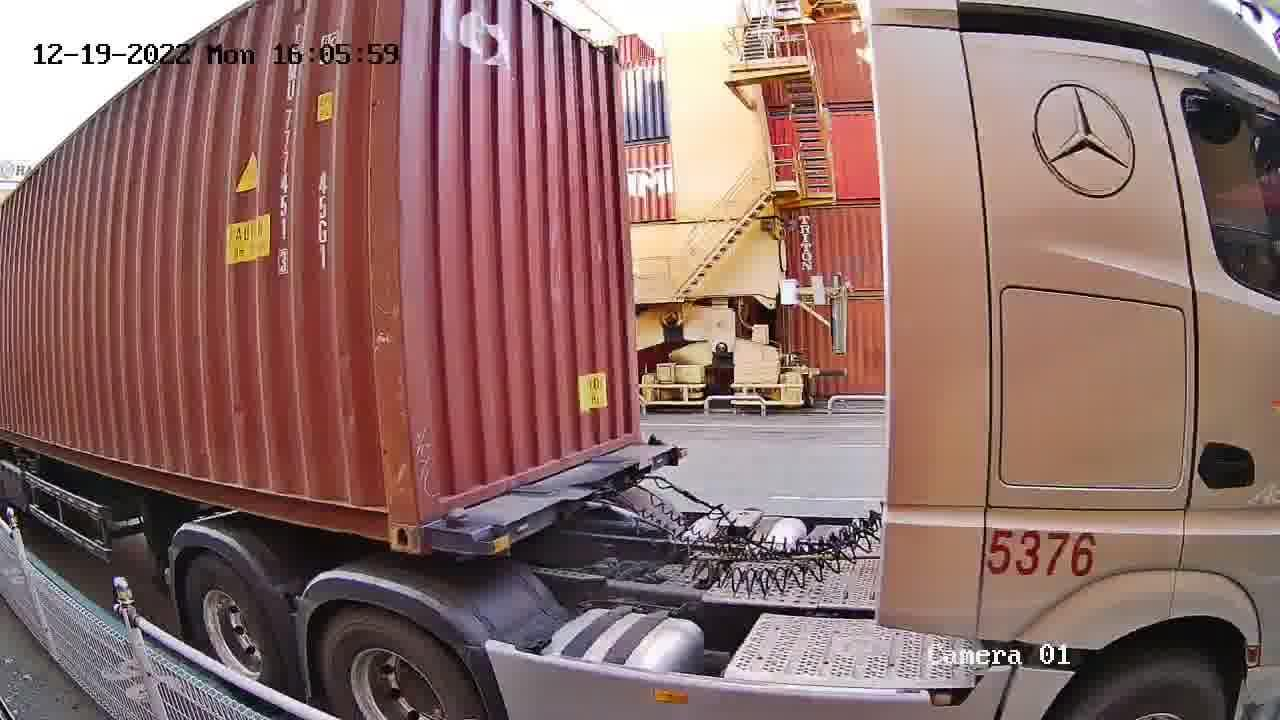Chassis: (427, 440, 683, 553)
Hole_R: (352, 471, 420, 553)
Tire: (319, 608, 485, 715), (185, 556, 280, 686)
